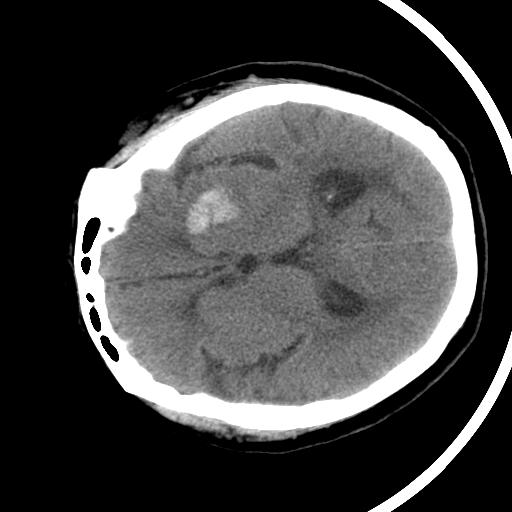a: (164, 167, 257, 246)
